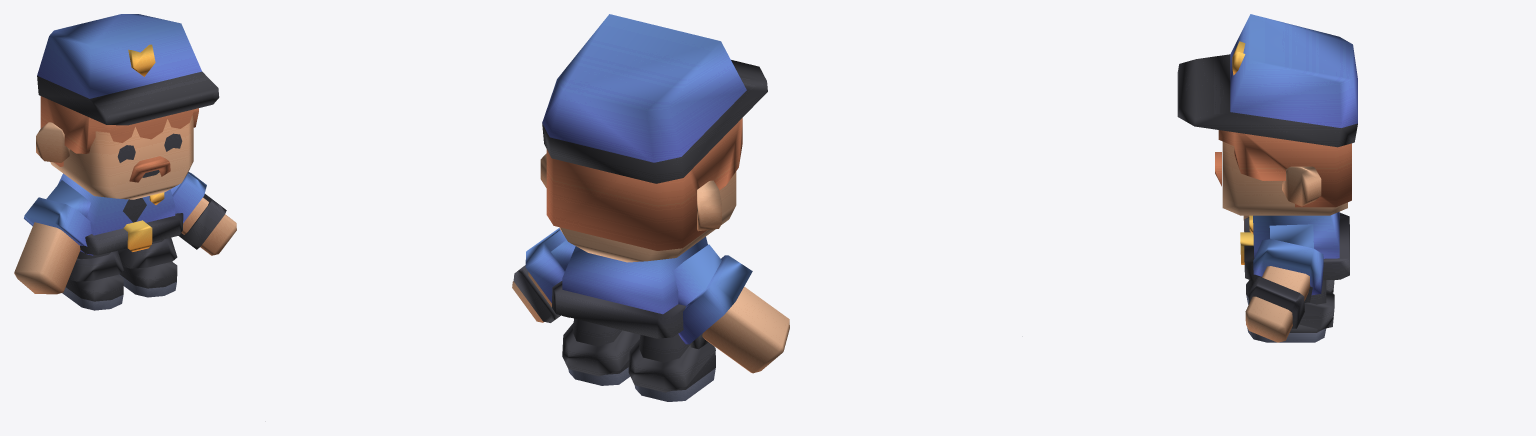
File: leader_sprint_4.glb
The picture shows the model from 3 angles, left to right: view 1: azimuth 30°, elevation 25°; view 2: azimuth 150°, elevation 25°; view 3: azimuth 270°, elevation 25°; orthographic projection. The views are drawn at different scales.
Visible parts, largest first — view 1: leader-sprint-4; view 2: leader-sprint-4; view 3: leader-sprint-4.
Boxes of the visible parts, bbox=[...] form: leader-sprint-4: bbox=[14, 14, 236, 310]; leader-sprint-4: bbox=[512, 14, 789, 401]; leader-sprint-4: bbox=[1177, 14, 1357, 342].
Bounding box in the file's own units: 1.2 × 0.803 × 1.2.
1 material, 1 textured.
